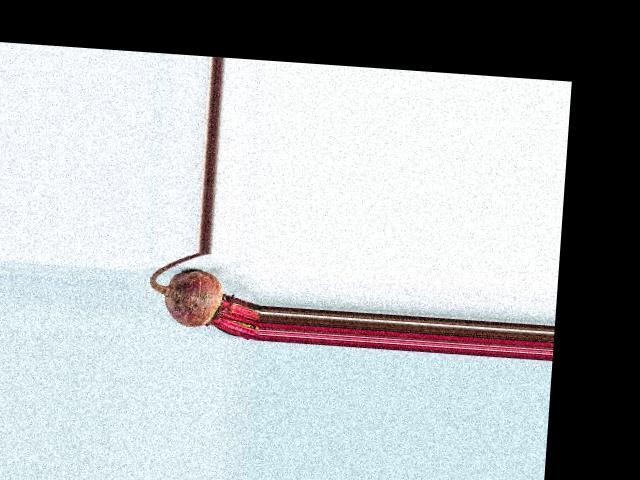beet: (146, 249, 266, 340)
